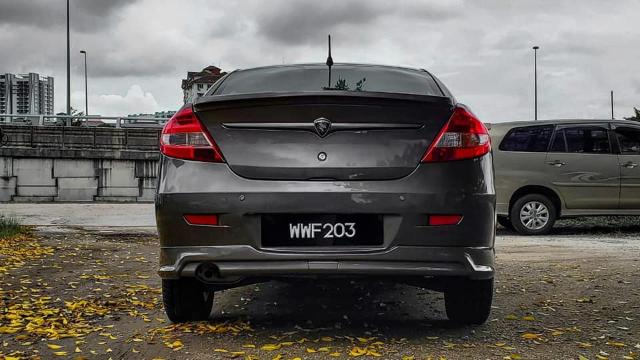License_Plate: (273, 219, 378, 248)
car: (151, 32, 500, 325)
